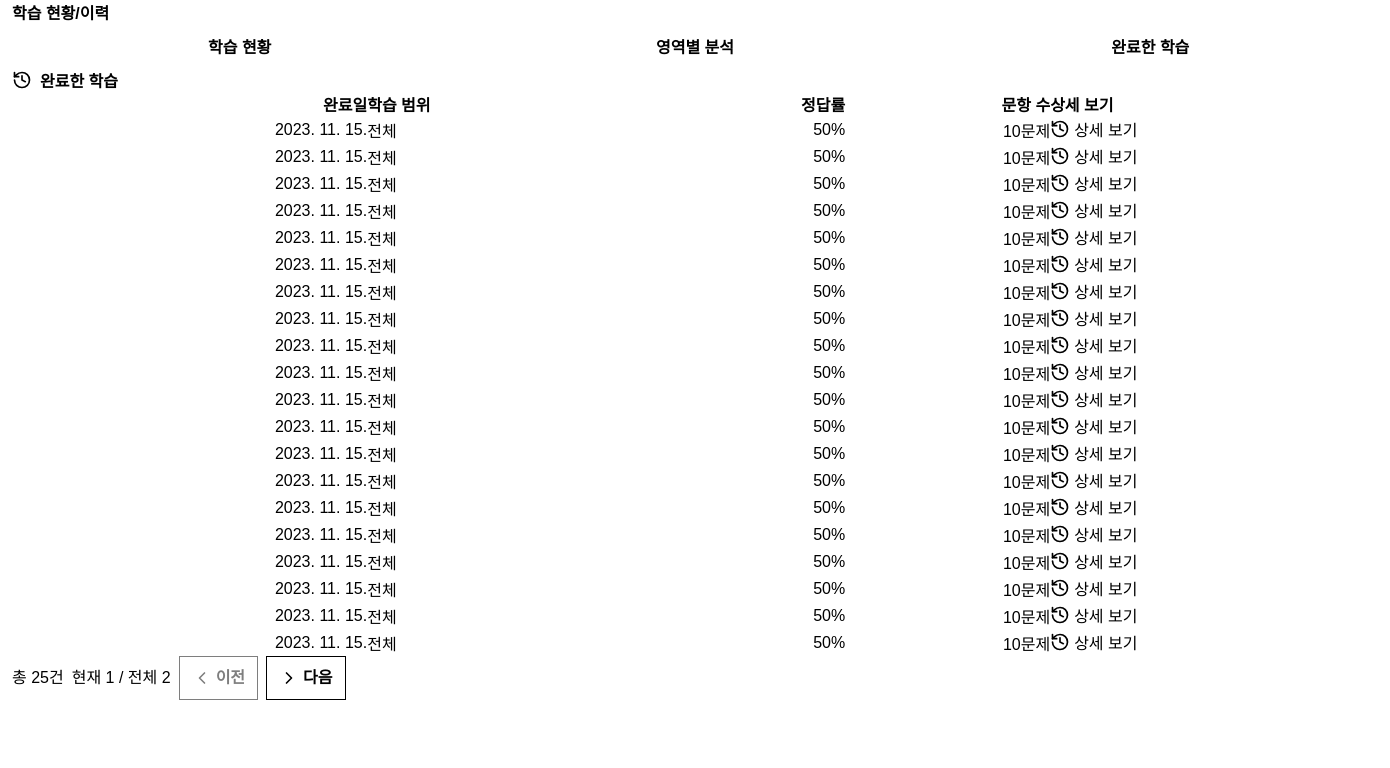
Test: 완료 목록 — 상세 진입·페이징·키보드 회귀 없음 (AC-4) › 페이지 이동 후에도 컬럼 표가 유지된다
This screenshot has width=1390, height=768.
Expected: the text "총 25건" is shown, 12,667 -> 64,689
What coordinates should you click on to do the following:
click the button "다음"
I would click on:
 (306, 678)
Its box is 266,656 -> 346,700.
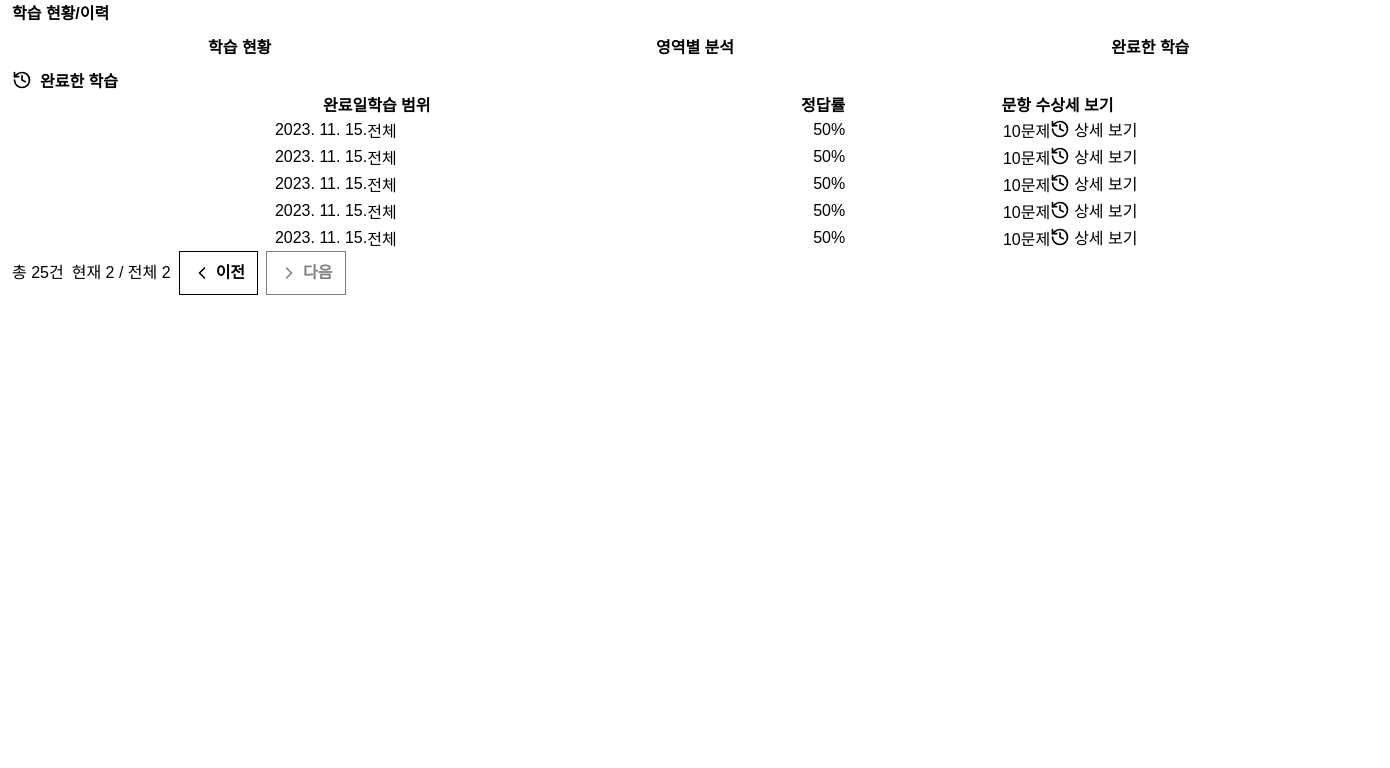
Expected: the table is shown, 12,92 -> 1378,251
Now the text "현재 2 / 전체 2" is shown, box 72,262 -> 171,284
